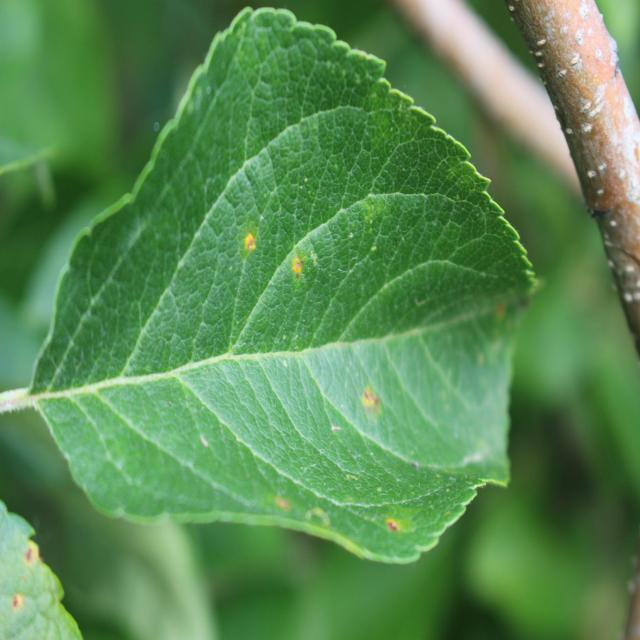Rust: (19, 522, 44, 575), (270, 482, 299, 525), (356, 380, 386, 420), (2, 589, 39, 619), (286, 253, 315, 288), (380, 507, 400, 544), (493, 294, 506, 334), (241, 221, 258, 251)
